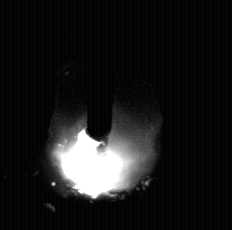arame: (87, 0, 113, 141)
poca: (49, 0, 156, 230)
